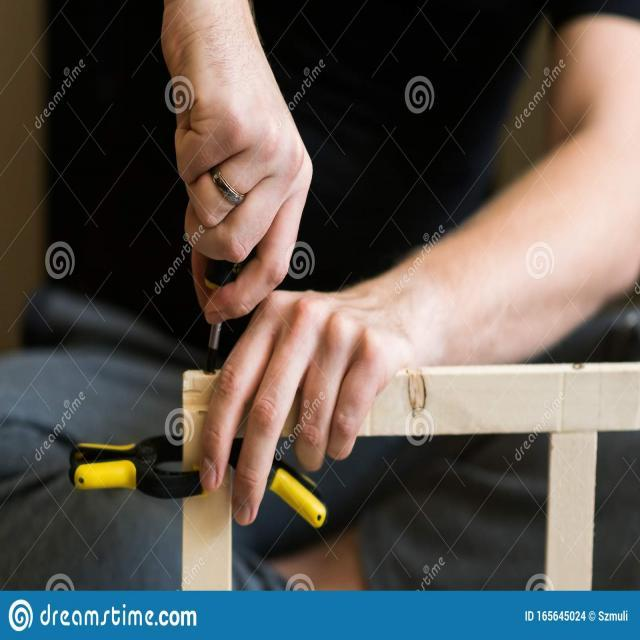screwdriver: (197, 218, 246, 382)
